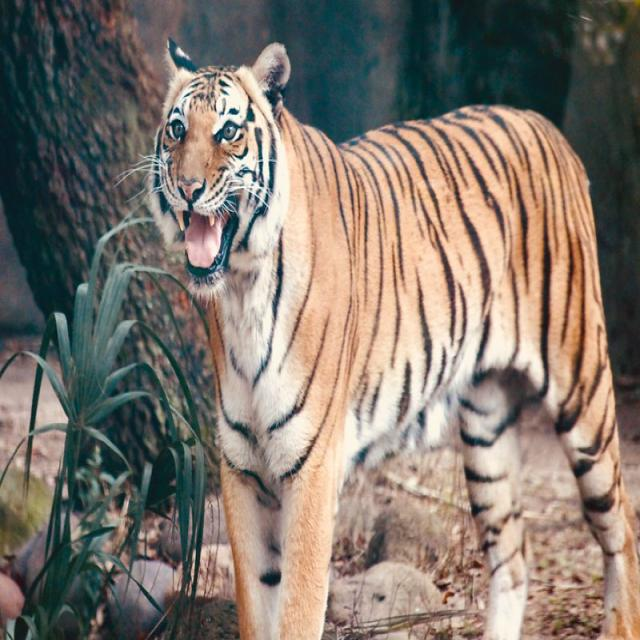Tiger: (147, 33, 639, 636)
